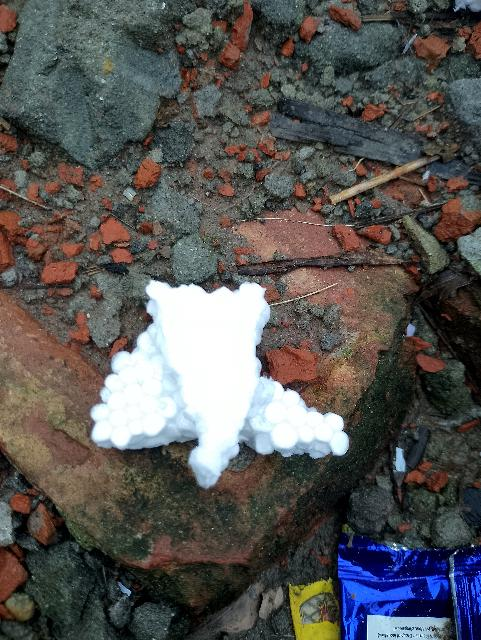cocksheet: (91, 281, 355, 465)
